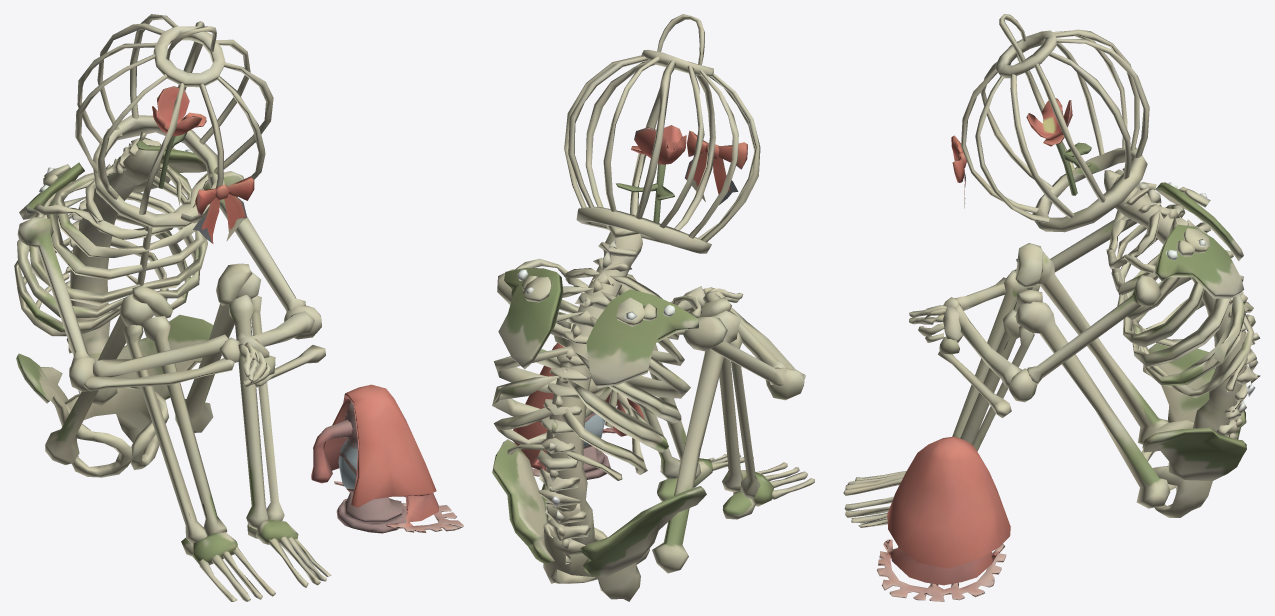
Rendered from aube_coin_noir.glb.
The picture shows the model from 3 angles, left to right: view 1: azimuth 30°, elevation 25°; view 2: azimuth 150°, elevation 25°; view 3: azimuth 270°, elevation 25°; orthographic projection. The views are drawn at different scales.
Visible parts, largest first — view 1: Aube_squelette; view 2: Aube_squelette; view 3: Aube_squelette.
Part boxes in pixels (<box>): Aube_squelette: <box>14,14,463,601</box>; Aube_squelette: <box>492,14,814,601</box>; Aube_squelette: <box>843,14,1260,601</box>.
Bounding box in the file's own units: 0.7995 × 1.15 × 0.8991.
Materials: 1 (1 with a texture image).
